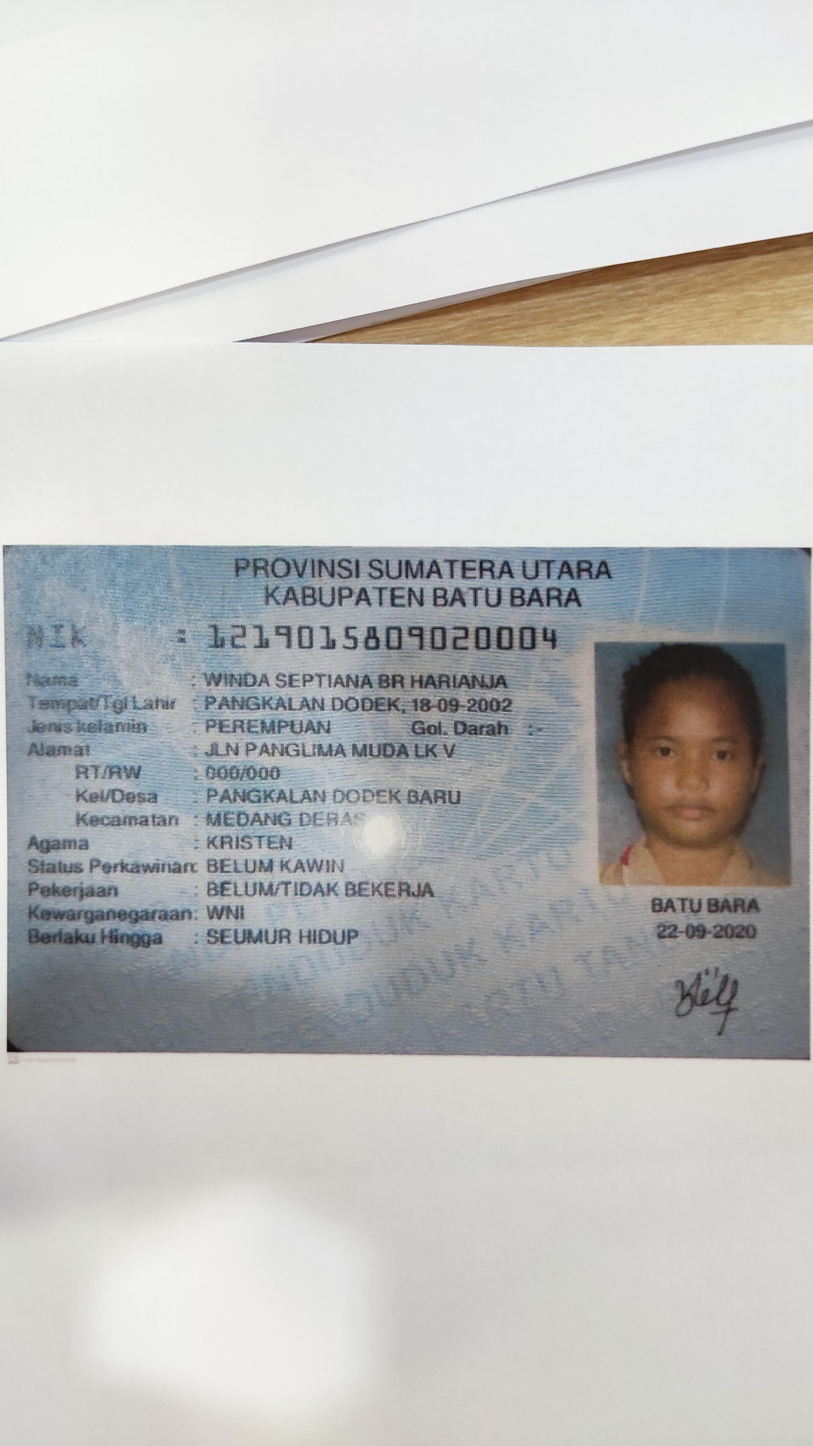ID-card: (6, 547, 811, 1053)
